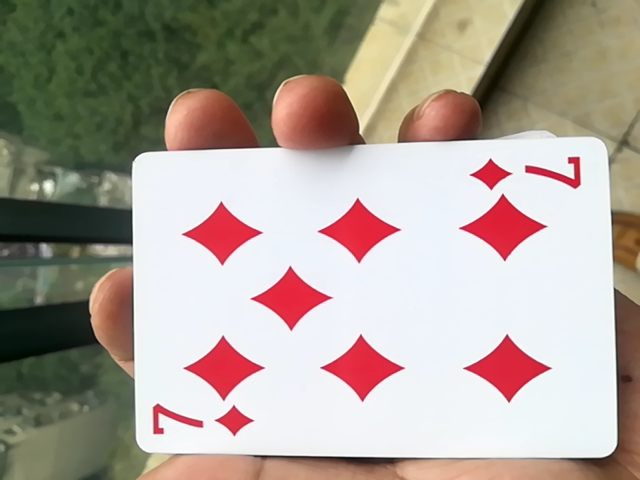fk 7: (122, 143, 616, 475)
